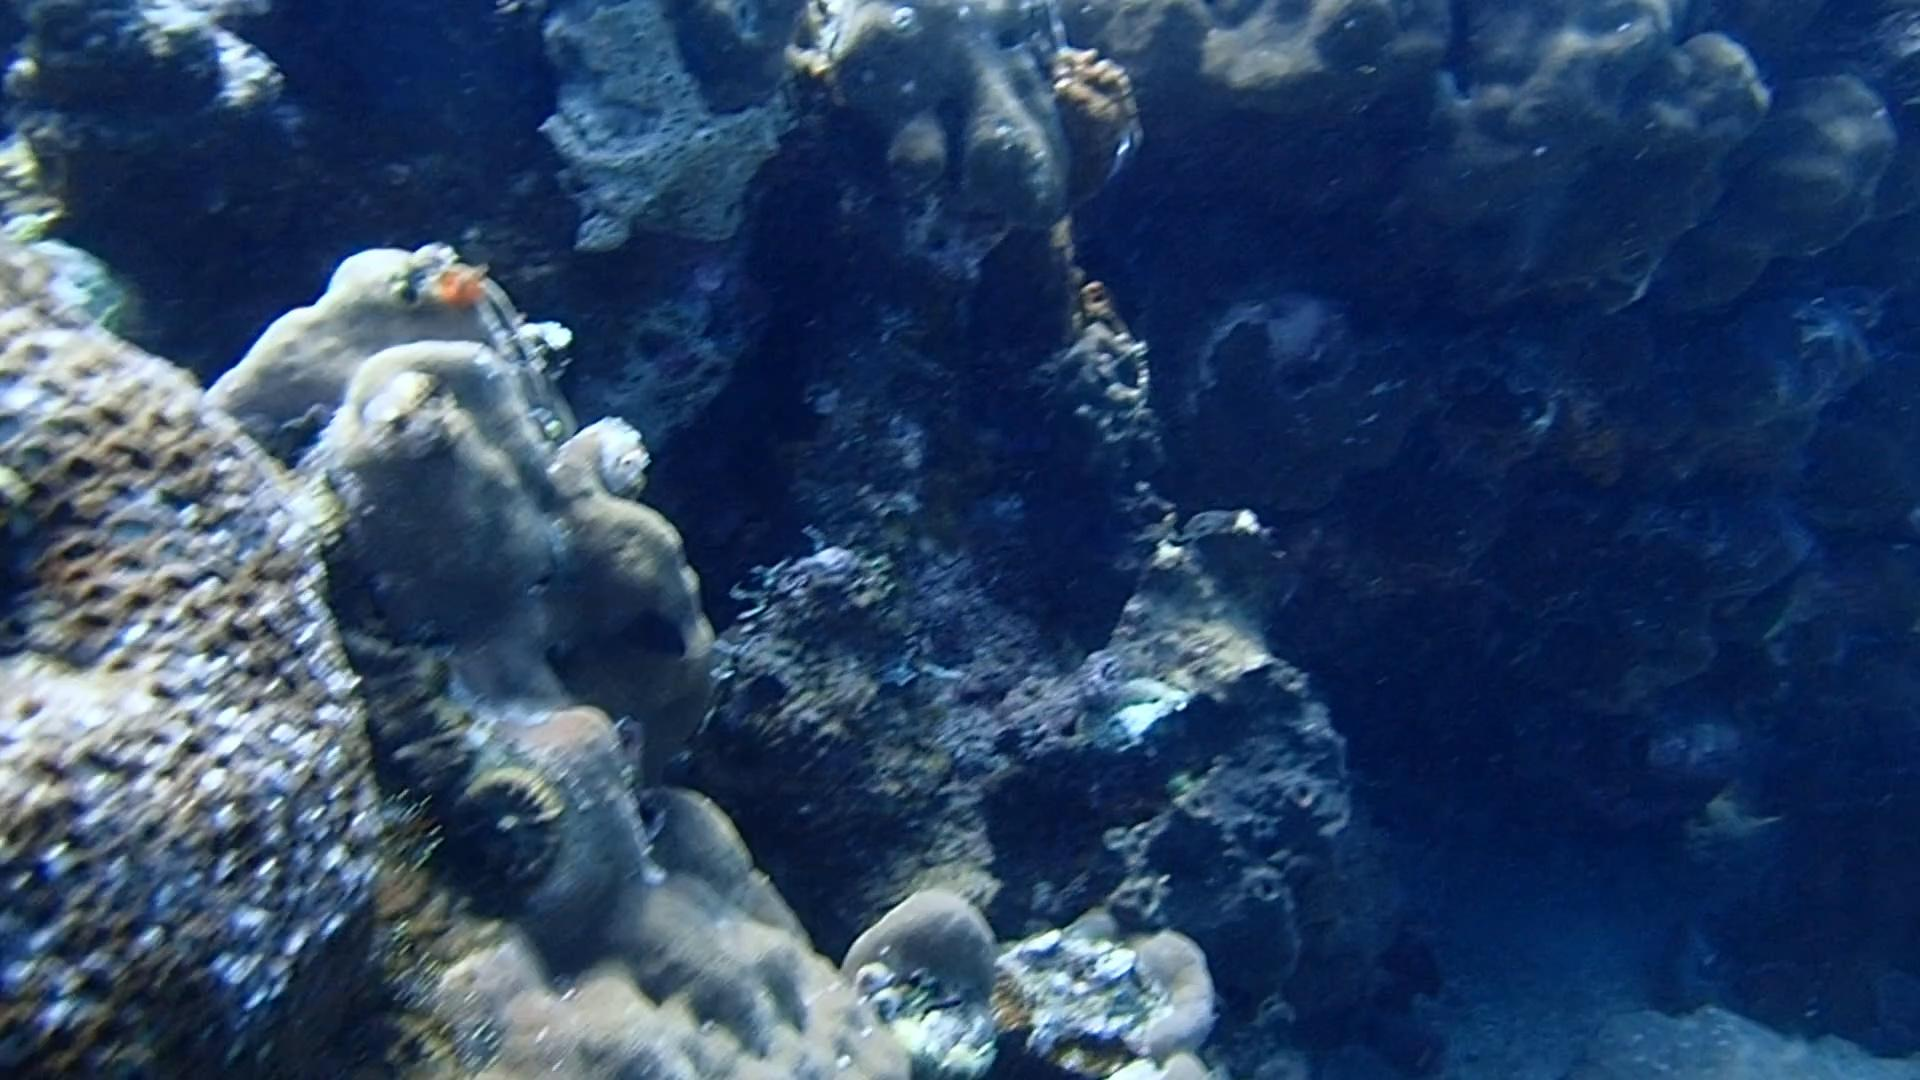Dark Fish: (720, 662, 811, 727), (617, 597, 698, 666)
